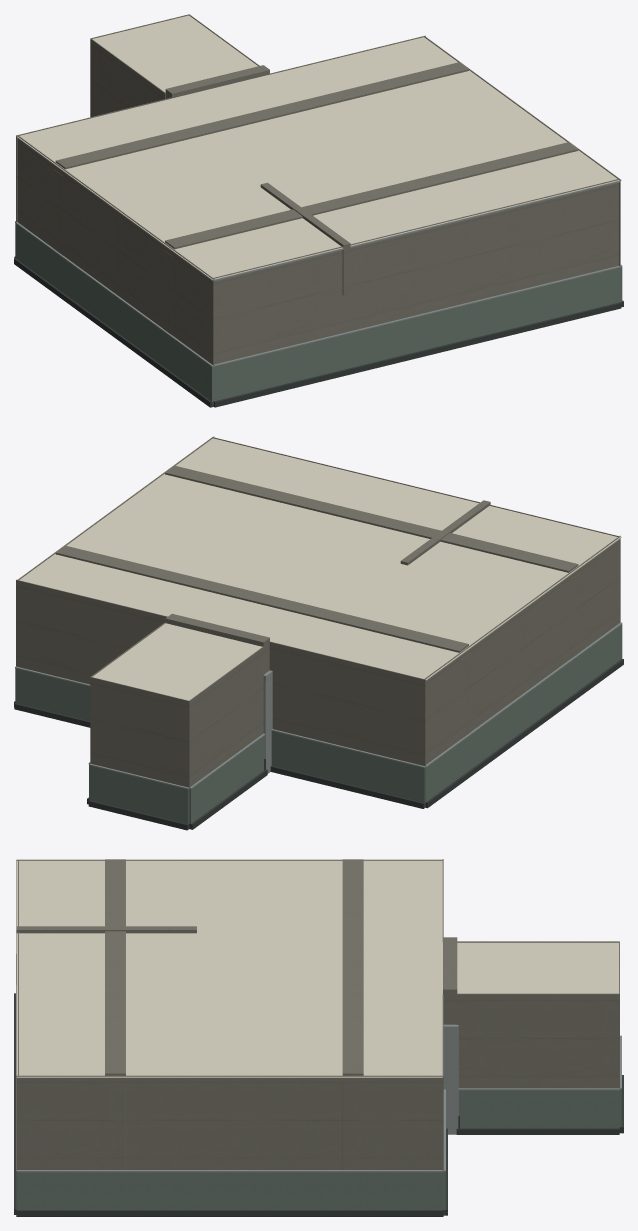
Rendered from b17_lining.glb.
3 renders of one model, top to bottom at view 1: azimuth 30°, elevation 25°; view 2: azimuth 150°, elevation 25°; view 3: azimuth 270°, elevation 25°, orthographic. The views are drawn at different scales.
Visible parts, largest first — view 1: b17_lining / power_instrument_ivory, b17_lining / power_plaster, b17_lining / power_sage_enamel, b17_lining / power_blackened_steel, b17_lining / power_galvanized; view 2: b17_lining / power_instrument_ivory, b17_lining / power_plaster, b17_lining / power_sage_enamel, b17_lining / power_blackened_steel, b17_lining / power_galvanized; view 3: b17_lining / power_instrument_ivory, b17_lining / power_plaster, b17_lining / power_sage_enamel, b17_lining / power_blackened_steel, b17_lining / power_galvanized.
Boxes of the visible parts, x1,y1,x2,y2 form: b17_lining / power_instrument_ivory: (16, 15, 621, 280); b17_lining / power_plaster: (16, 14, 620, 366); b17_lining / power_sage_enamel: (15, 223, 622, 407); b17_lining / power_blackened_steel: (14, 256, 623, 407); b17_lining / power_galvanized: (15, 181, 622, 366); b17_lining / power_instrument_ivory: (17, 437, 621, 700); b17_lining / power_plaster: (16, 436, 620, 787); b17_lining / power_sage_enamel: (15, 624, 622, 829); b17_lining / power_blackened_steel: (14, 659, 623, 830); b17_lining / power_galvanized: (15, 622, 622, 789); b17_lining / power_instrument_ivory: (16, 860, 618, 1077); b17_lining / power_plaster: (16, 859, 619, 1170); b17_lining / power_sage_enamel: (16, 1089, 621, 1214); b17_lining / power_blackened_steel: (14, 993, 623, 1216); b17_lining / power_galvanized: (16, 954, 621, 1172).
Size of the model in its own units: 11.81 by 3.6 by 13.85.
5 materials, 3 textured.
